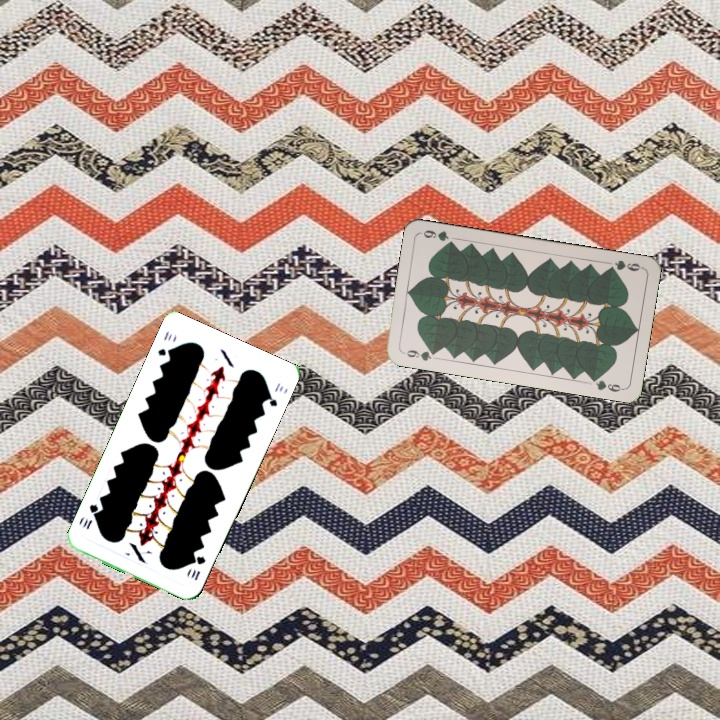G10: (154, 327, 175, 360), (186, 552, 208, 583)
G9: (604, 256, 645, 274), (399, 346, 440, 364)
